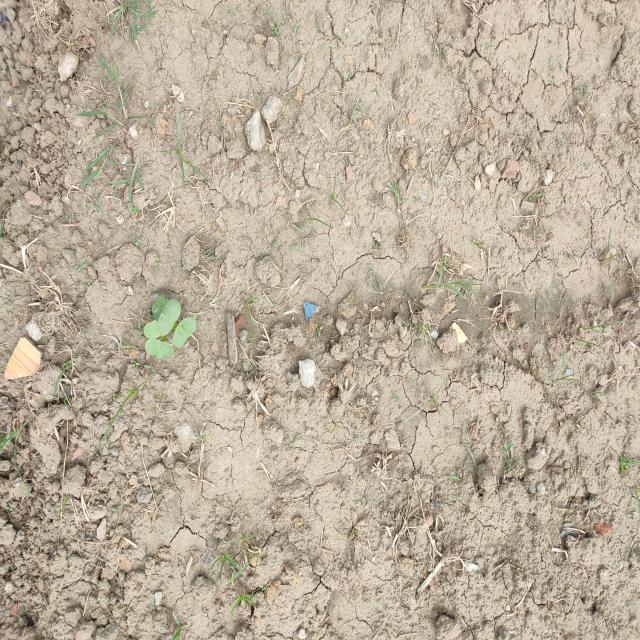seedling: (157, 299, 181, 336), (173, 317, 197, 347), (145, 338, 175, 359), (152, 295, 170, 320), (143, 320, 161, 338)
